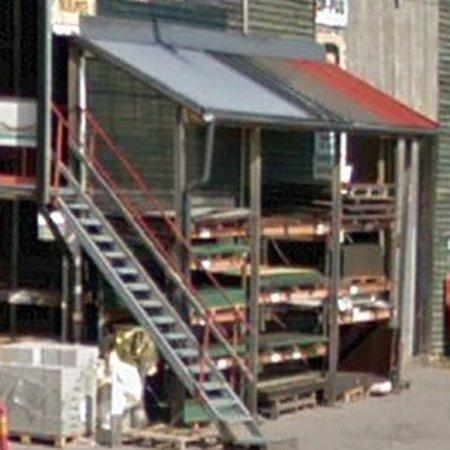stairs: (54, 175, 265, 450)
